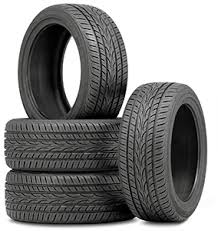tire: (17, 3, 128, 119), (118, 81, 207, 223), (4, 172, 136, 224), (4, 119, 119, 172)
